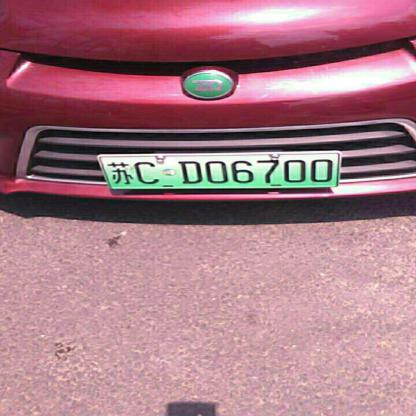lp: (102, 154, 338, 189)
